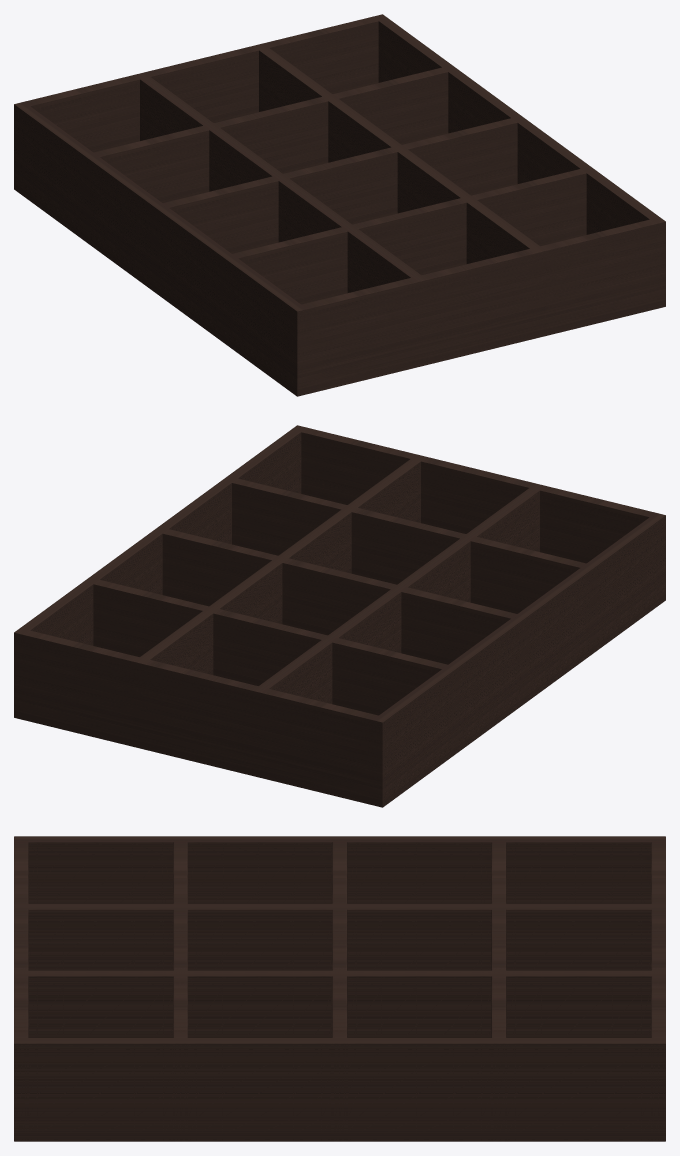
Rendered from 20357_Cube_Bookcase_v1 Textured.obj.
3 views of the same model, one above another, from view 1: azimuth 30°, elevation 25°; view 2: azimuth 150°, elevation 25°; view 3: azimuth 270°, elevation 25° (orthographic). The views are drawn at different scales.
Visible parts, largest first — view 1: 20357_Cube_Bookcase; view 2: 20357_Cube_Bookcase; view 3: 20357_Cube_Bookcase.
Part boxes in pixels (x1,y1,x2,y2): 20357_Cube_Bookcase: (14,14,665,396); 20357_Cube_Bookcase: (14,425,665,807); 20357_Cube_Bookcase: (14,836,665,1141).
Size of the model in its own units: 9.88 by 2.19 by 13.15.
Materials: 1 (1 with a texture image).
